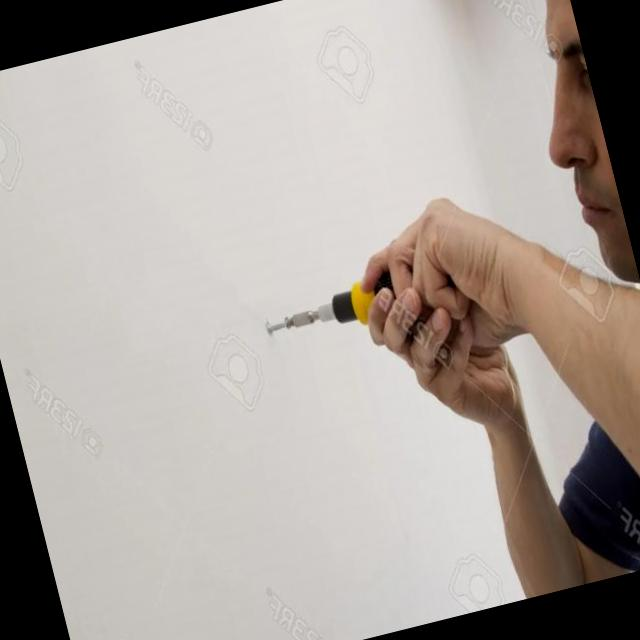screwdriver: (266, 282, 374, 333)
